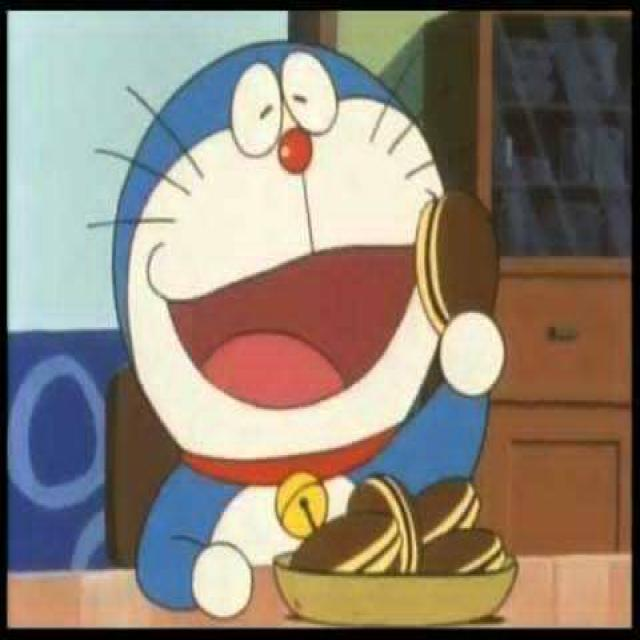doraemon: (107, 34, 500, 533)
